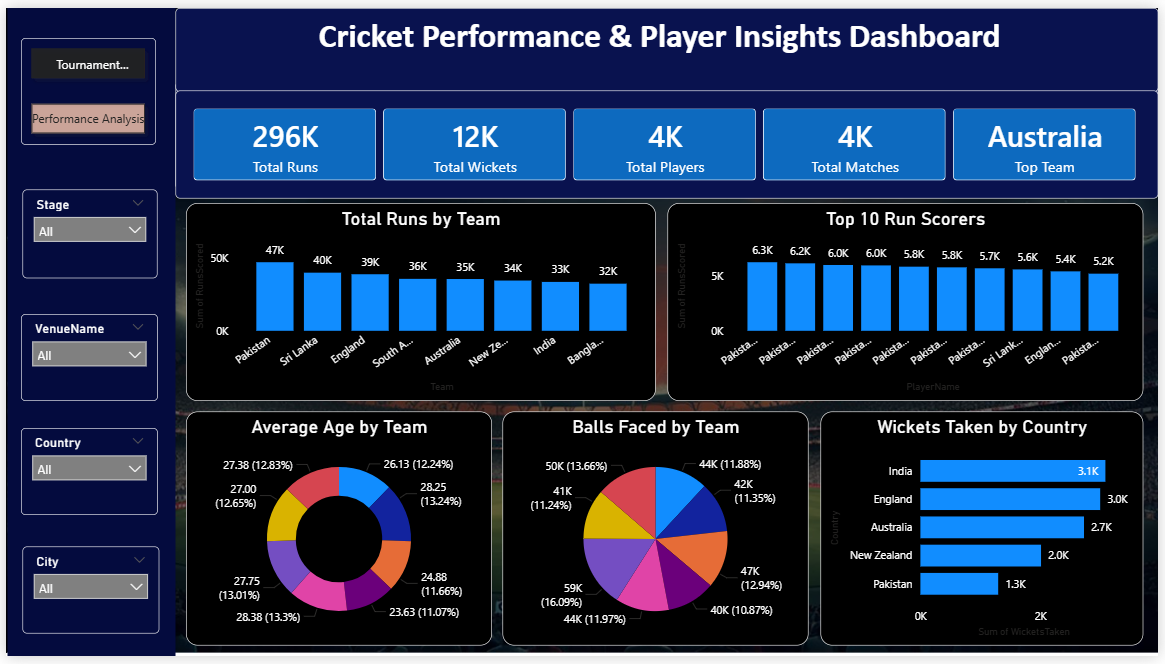

This screenshot's page, from the dashboard's own definition file:
{"tool":"powerbi","page":{"name":"Tournament Overview","canvas":[1280,720],"ordinal":0},"visuals":[{"type":"textbox","box":[1.7,0,186.7,720],"z":0},{"type":"slicer","fields":{"Values":["DimMatch.Stage"]},"box":[18.3,201.7,150,98.3],"z":2000},{"type":"slicer","fields":{"Values":["DimVenue.VenueName"]},"box":[16.7,340,151.7,96.7],"z":3000},{"type":"slicer","fields":{"Values":["DimVenue.Country"]},"box":[16.7,466.7,151.7,96.7],"z":4000},{"type":"slicer","fields":{"Values":["DimVenue.City"]},"box":[18.3,598.3,151.7,96.7],"z":5000},{"type":"cardVisual","fields":{"Data":["Sum(FactPlayerMatch.RunsScored)","Sum(FactPlayerMatch.WicketsTaken)","CountNonNull(FactPlayerMatch.PlayerID)","CountNonNull(FactPlayerMatch.MatchID)","Min(DimPlayer.Team)"]},"box":[188.3,81.7,1091.7,120],"z":6000},{"type":"clusteredColumnChart","title":"Total Runs by Team","fields":{"Category":["DimPlayer.Team"],"Y":["Sum(FactPlayerMatch.RunsScored)"]},"box":[200,216.7,521.7,220],"z":7000},{"type":"clusteredColumnChart","title":"Top 10 Run Scorers","fields":{"Category":["DimPlayer.PlayerName"],"Y":["Sum(FactPlayerMatch.RunsScored)"]},"box":[735,216.7,528.3,220],"z":8000},{"type":"donutChart","title":"Average Age by Team","fields":{"Y":["Avg(DimPlayer.Age)"],"Series":["DimPlayer.Team"]},"box":[200,448.3,340,260],"z":9000},{"type":"pieChart","title":"Balls Faced by Team","fields":{"Series":["DimPlayer.Team"],"Y":["Sum(FactPlayerMatch.BallsFaced)"]},"box":[551.7,448.3,340,260],"z":10000},{"type":"barChart","title":"Wickets Taken by Country","fields":{"Category":["DimVenue.Country"],"Y":["Sum(FactPlayerMatch.WicketsTaken)"]},"box":[905,448.3,358.3,260],"z":11000},{"type":"pageNavigator","box":[16.7,33.3,150,118.3],"z":12000},{"type":"textbox","box":[188.3,0,1091.7,93.3],"z":12001},{"type":"cardVisual","fields":{"Data":["Sum(FactPlayerMatch.RunsScored)","Sum(FactPlayerMatch.WicketsTaken)","CountNonNull(FactPlayerMatch.PlayerID)","CountNonNull(FactPlayerMatch.MatchID)","Min(DimPlayer.Team)"]},"box":[188.3,91.7,1091.7,120],"z":12002}]}

Visuals, with their boxes in screenshot pixels (x1, y1, x2, y2), scaled from the page's 1280x720 canvas onto the 1165x664 screenshot:
textbox: bbox=[2, 0, 171, 663]
slicer - DimMatch.Stage: bbox=[17, 186, 153, 277]
slicer - DimVenue.VenueName: bbox=[15, 314, 153, 403]
slicer - DimVenue.Country: bbox=[15, 430, 153, 520]
slicer - DimVenue.City: bbox=[17, 552, 155, 641]
cardVisual - Sum(FactPlayerMatch.RunsScored) x Sum(FactPlayerMatch.WicketsTaken): bbox=[171, 75, 1164, 186]
"Total Runs by Team" clusteredColumnChart: bbox=[182, 200, 657, 403]
"Top 10 Run Scorers" clusteredColumnChart: bbox=[669, 200, 1150, 403]
"Average Age by Team" donutChart: bbox=[182, 413, 491, 653]
"Balls Faced by Team" pieChart: bbox=[502, 413, 812, 653]
"Wickets Taken by Country" barChart: bbox=[824, 413, 1150, 653]
pageNavigator: bbox=[15, 31, 152, 140]
textbox: bbox=[171, 0, 1164, 86]
cardVisual - Sum(FactPlayerMatch.RunsScored) x Sum(FactPlayerMatch.WicketsTaken): bbox=[171, 85, 1164, 195]
